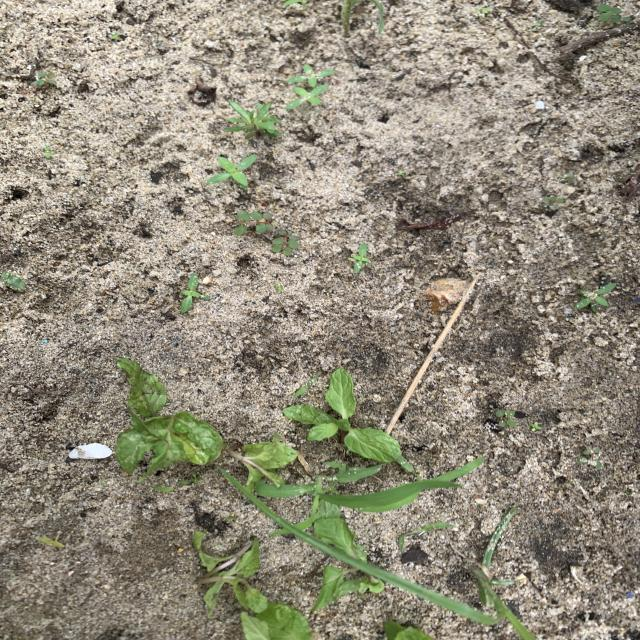crop: (116, 358, 225, 477), (283, 369, 404, 463), (193, 531, 268, 614), (228, 434, 297, 487), (313, 501, 367, 564), (312, 566, 384, 611)
weed: (255, 456, 484, 530), (464, 507, 536, 640), (225, 101, 280, 138), (207, 154, 257, 190), (574, 282, 617, 312), (180, 273, 210, 314), (287, 64, 335, 89), (396, 521, 454, 541), (233, 210, 277, 236), (286, 84, 329, 110), (150, 474, 201, 492), (595, 3, 631, 28), (271, 228, 298, 256), (293, 375, 319, 399), (351, 242, 370, 274), (36, 530, 66, 550), (0, 271, 27, 292), (492, 408, 515, 429), (31, 72, 55, 88), (578, 445, 600, 462), (110, 32, 124, 42), (43, 145, 53, 159), (274, 282, 285, 294), (531, 421, 542, 433)
